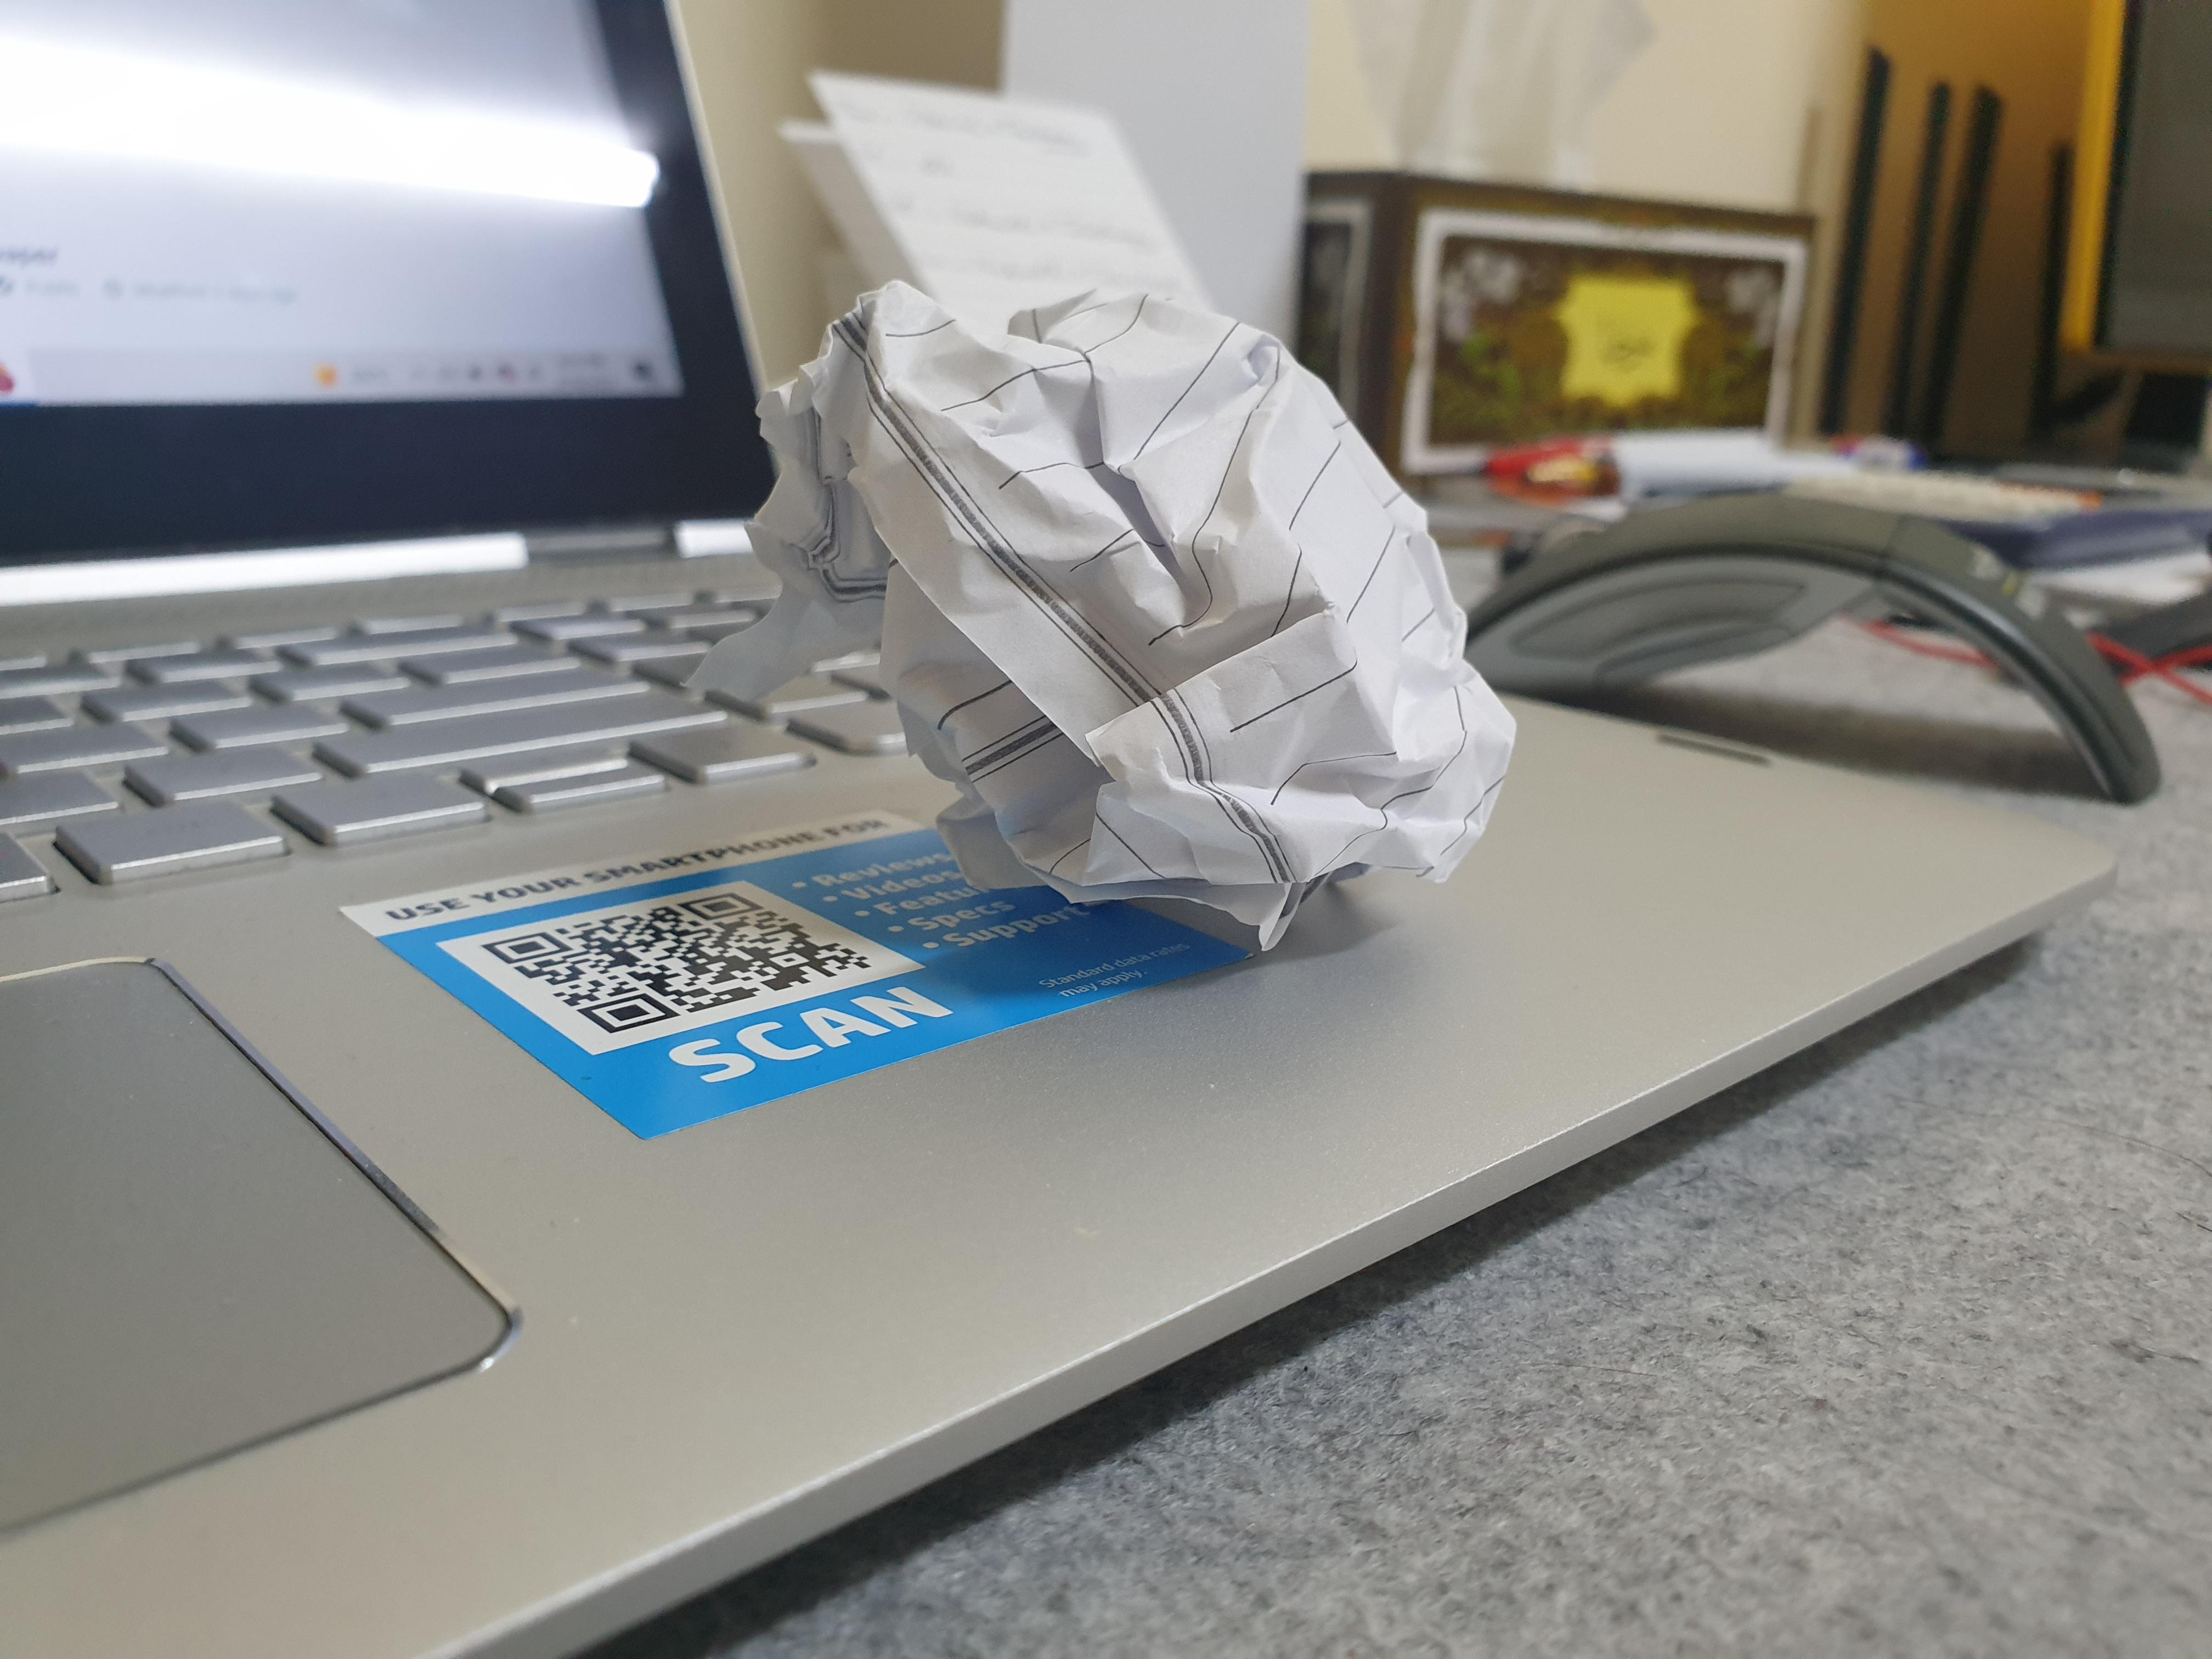Paper: (701, 261, 1543, 978)
